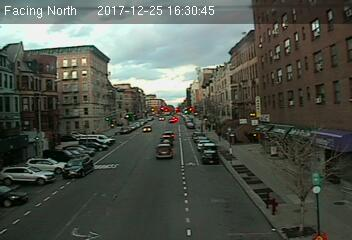car: (61, 155, 95, 178), (156, 143, 173, 158), (201, 149, 218, 164)
